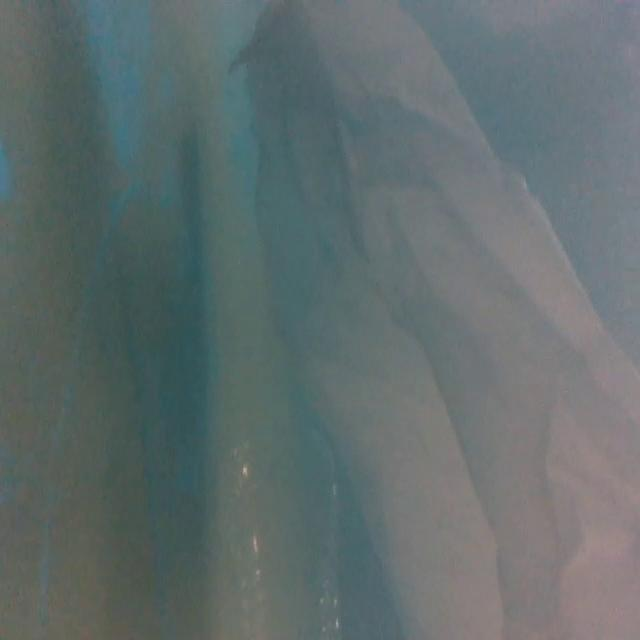plastic bags: (247, 0, 640, 640)
plastic bottle: (210, 409, 352, 640)
